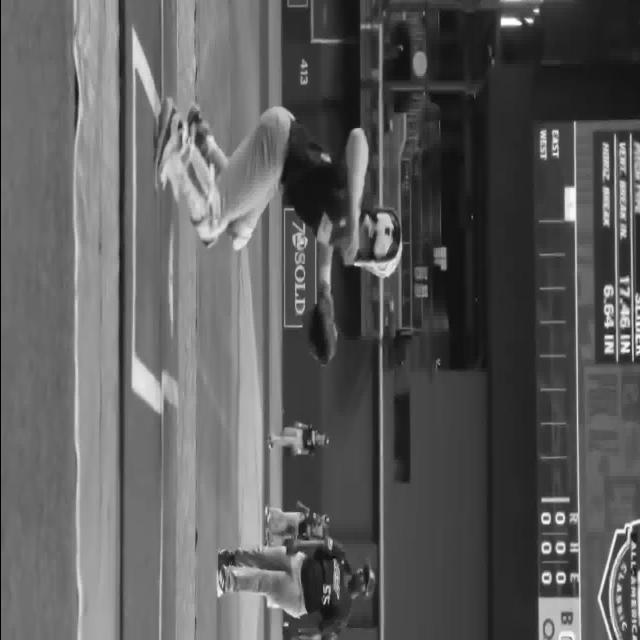baseball_glove: (304, 292, 338, 364)
shoe: (154, 98, 182, 188), (187, 104, 211, 154), (216, 566, 226, 597), (218, 548, 234, 567)
